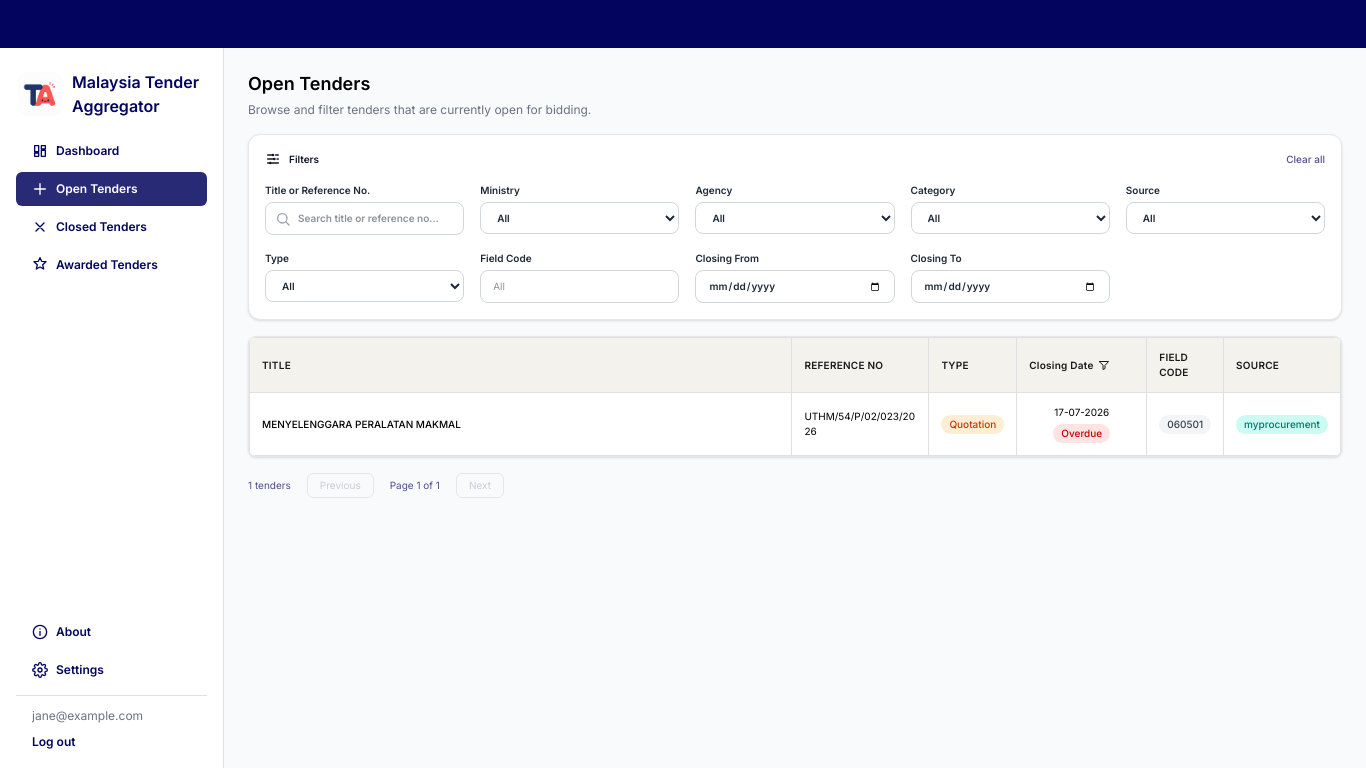
Test: App › shows the signed-in user's email and a Log out button in the sidebar, which signs them out
The image size is (1366, 768).
Expected: the text "jane@example.com" is shown, 32,708 -> 143,723
Step 1. Click the button "Log out" → (54, 742), box 32,733 -> 76,751
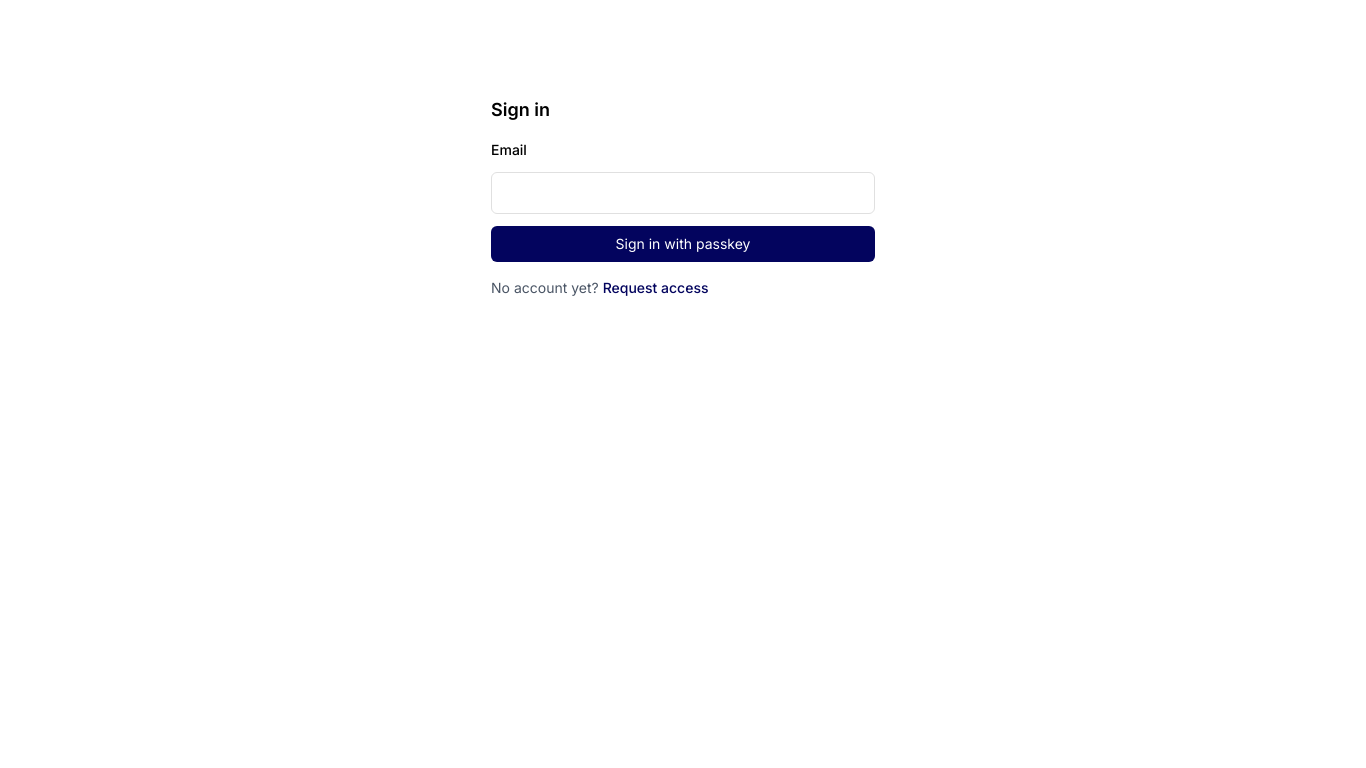
Expected: the field labelled "Email" is shown, 491,172 -> 875,214
